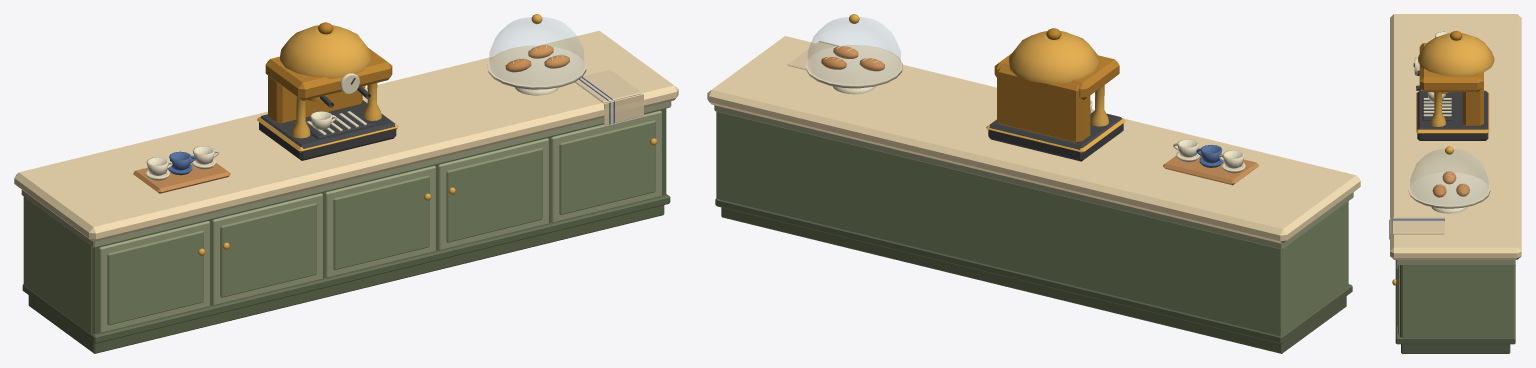
Rendered from service-counter.glb.
3 renders of one model, left to right at view 1: azimuth 30°, elevation 25°; view 2: azimuth 150°, elevation 25°; view 3: azimuth 270°, elevation 25°, orthographic. The views are drawn at different scales.
Visible parts, largest first — view 1: service-counter Furniture, service-counter Glass; view 2: service-counter Furniture, service-counter Glass; view 3: service-counter Furniture, service-counter Glass.
Boxes of the visible parts, bbox=[...] form: service-counter Furniture: bbox=[14, 14, 678, 353]; service-counter Glass: bbox=[489, 17, 583, 85]; service-counter Furniture: bbox=[707, 14, 1360, 353]; service-counter Glass: bbox=[808, 17, 900, 83]; service-counter Furniture: bbox=[1389, 14, 1521, 353]; service-counter Glass: bbox=[1410, 149, 1488, 204].
Size of the model in its own units: 5.75 by 2.26 by 1.35.
